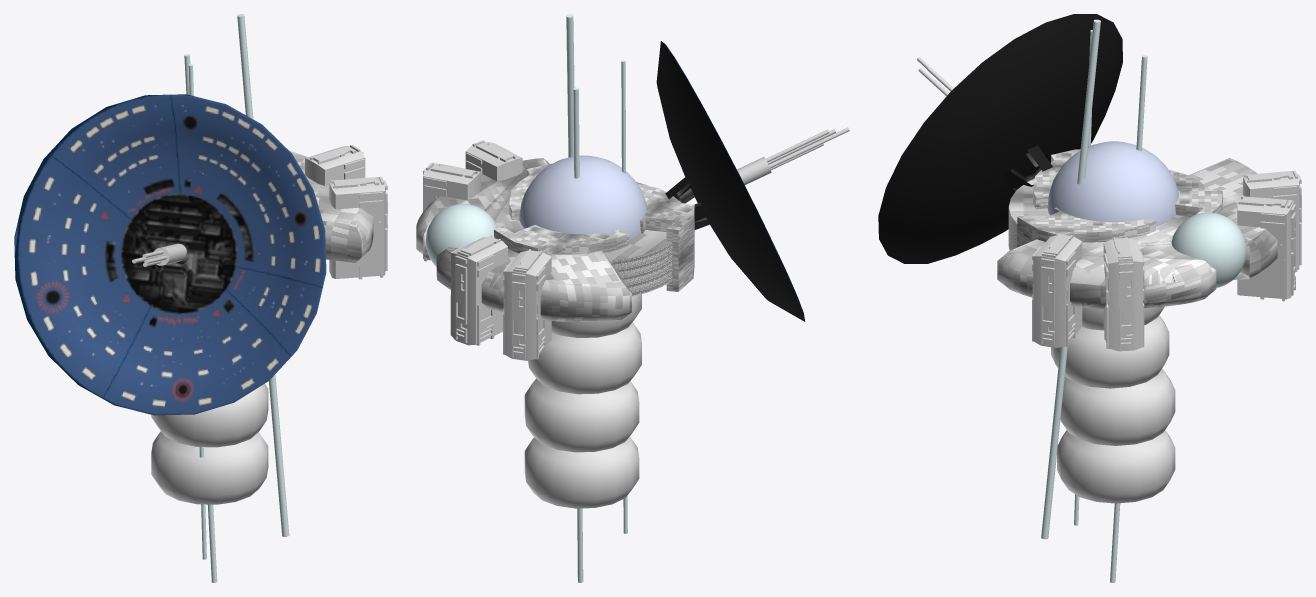
File: Pirate Radar Station model.dae
The picture shows the model from 3 angles, left to right: view 1: azimuth 30°, elevation 25°; view 2: azimuth 150°, elevation 25°; view 3: azimuth 270°, elevation 25°; orthographic projection. The views are drawn at different scales.
Visible parts, largest first — view 1: Polygon_Mesh (×9); view 2: Polygon_Mesh (×18); view 3: Polygon_Mesh (×16).
Boxes of the visible parts, box(x1,y1,x2,y2) form: Polygon_Mesh (×9): box(14, 14, 387, 582); Polygon_Mesh (×18): box(416, 14, 849, 582); Polygon_Mesh (×16): box(878, 14, 1301, 582).
Bounding box in the file's own units: 655 × 995 × 669.
4 materials, 2 textured.
